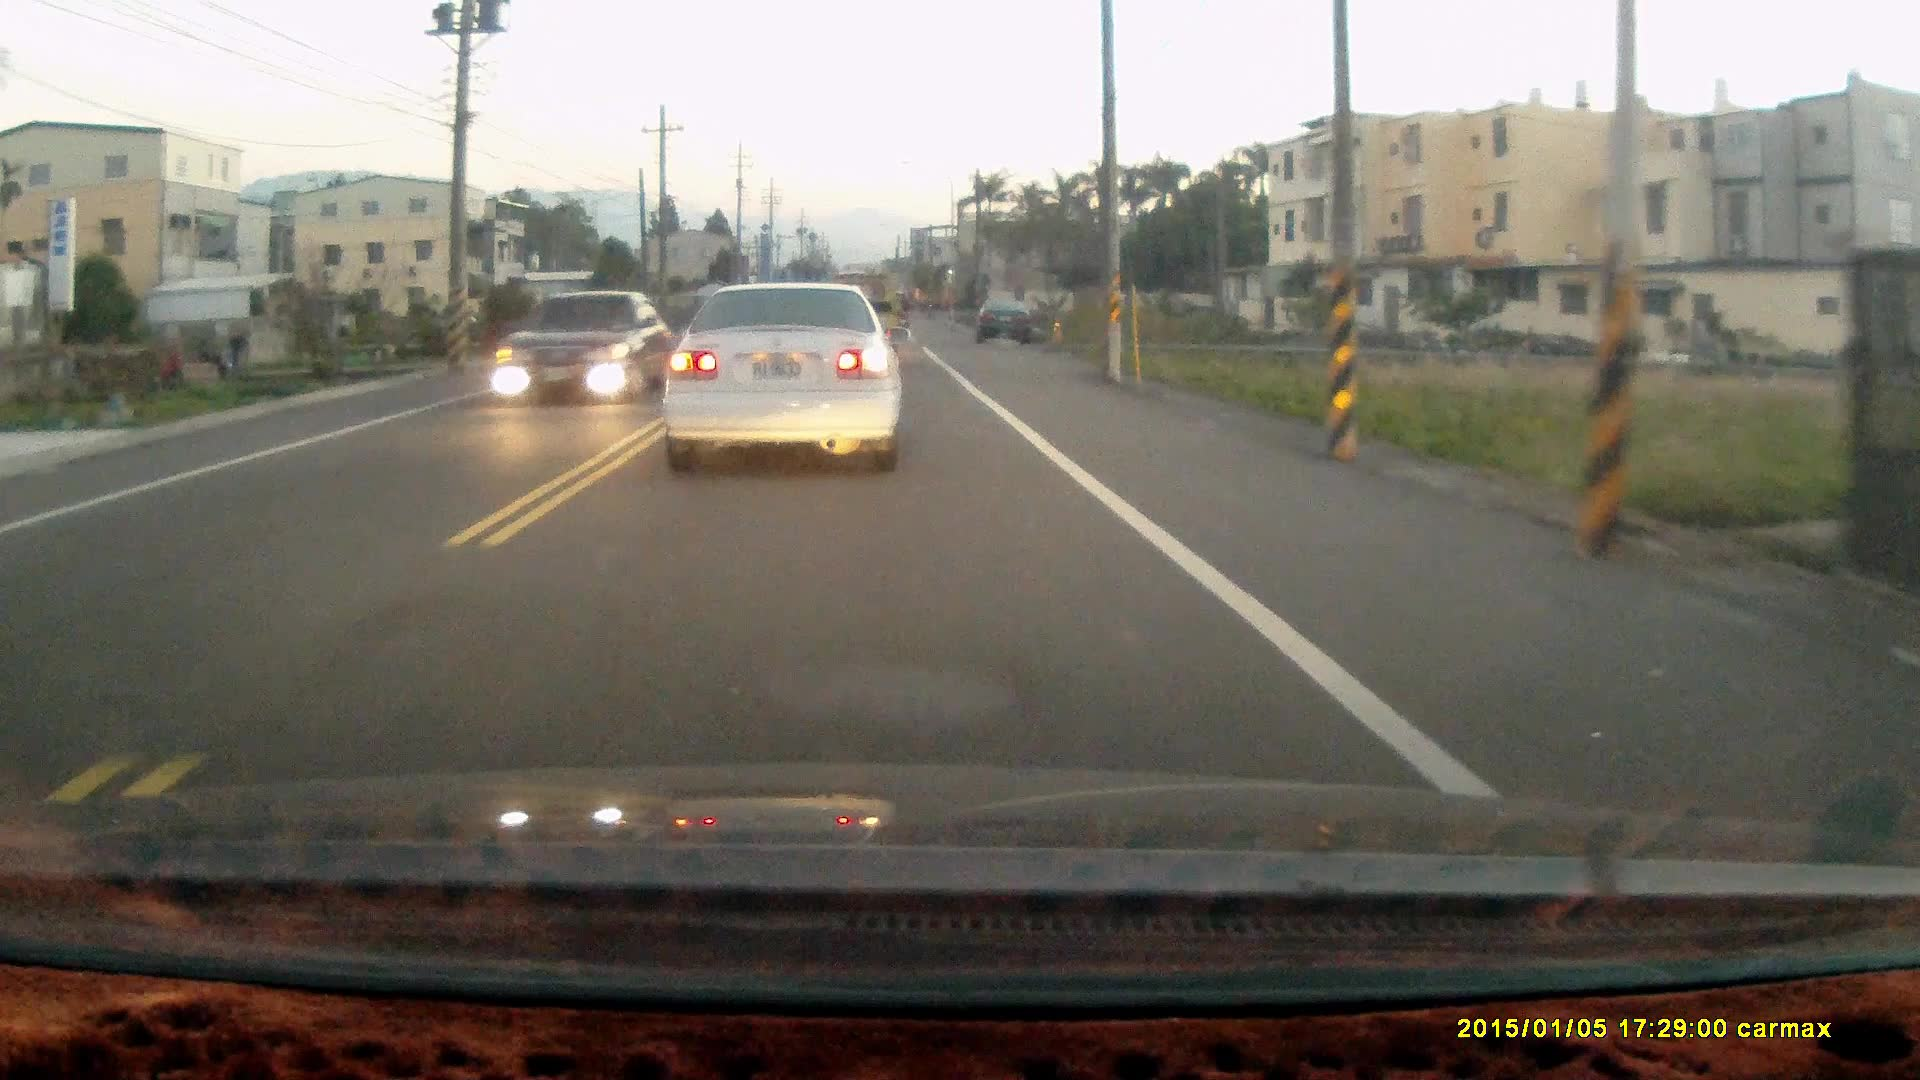pedestrian: (159, 351, 183, 398), (227, 324, 247, 373)
vehicle: (663, 278, 907, 479), (495, 292, 675, 403), (978, 301, 1041, 350)
